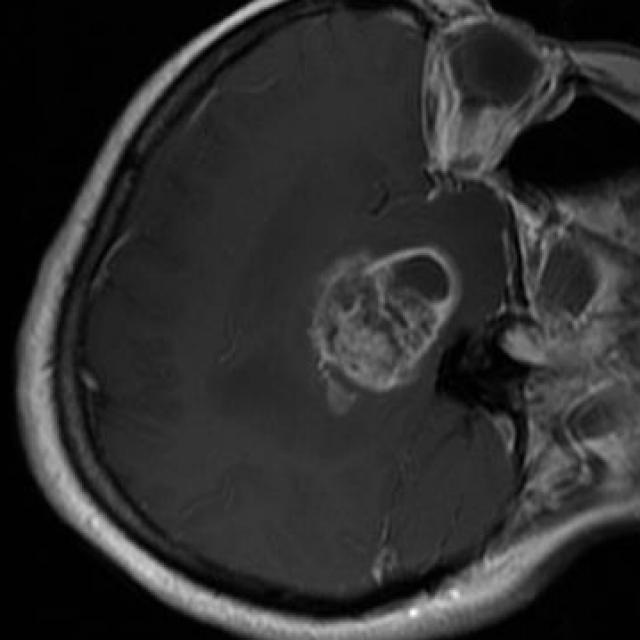glioma: (307, 248, 460, 417)
